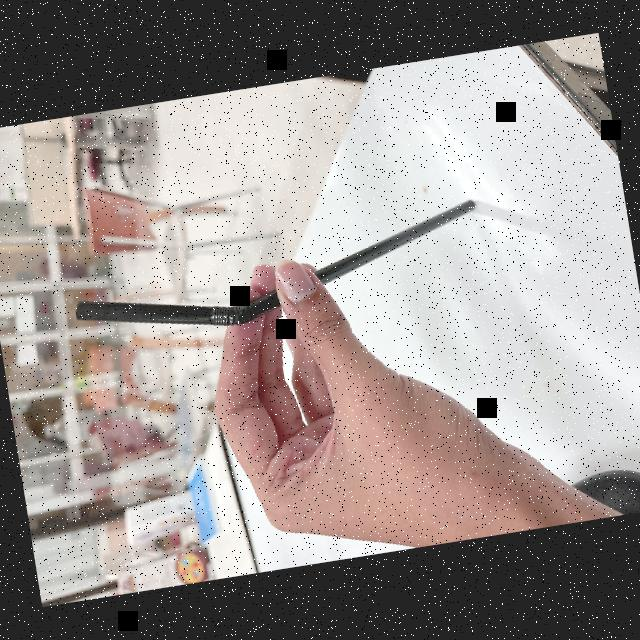straw: (67, 192, 494, 359)
